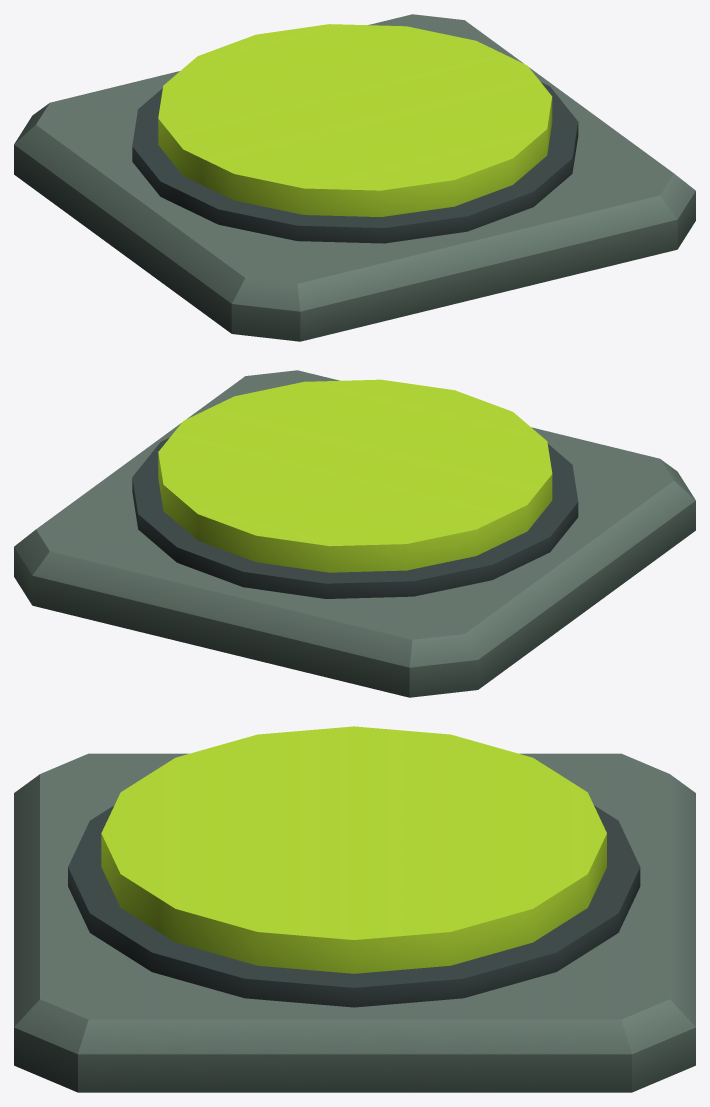
File: switch_009.fbx
3 renders of one model, top to bottom at view 1: azimuth 30°, elevation 25°; view 2: azimuth 150°, elevation 25°; view 3: azimuth 270°, elevation 25°, orthographic. The views are drawn at different scales.
Parts seen in each view (by area): view 1: switch.009; view 2: switch.009; view 3: switch.009.
Boxes of the visible parts, x1=… form: switch.009: x1=14, y1=14, x2=695, y2=341; switch.009: x1=14, y1=370, x2=695, y2=697; switch.009: x1=14, y1=726, x2=695, y2=1092.
Bounding box in the file's own units: 174 × 32.48 × 174.
